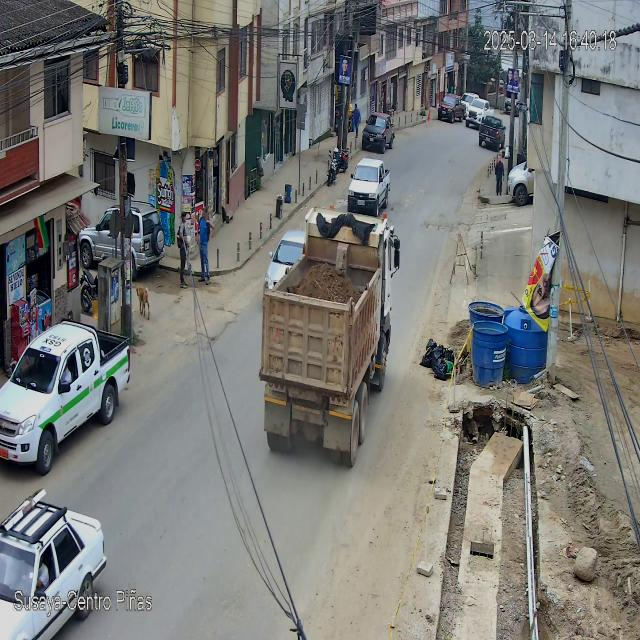CMT: (1, 324, 133, 472), (348, 159, 390, 218)
TRUCK: (258, 208, 399, 466)
